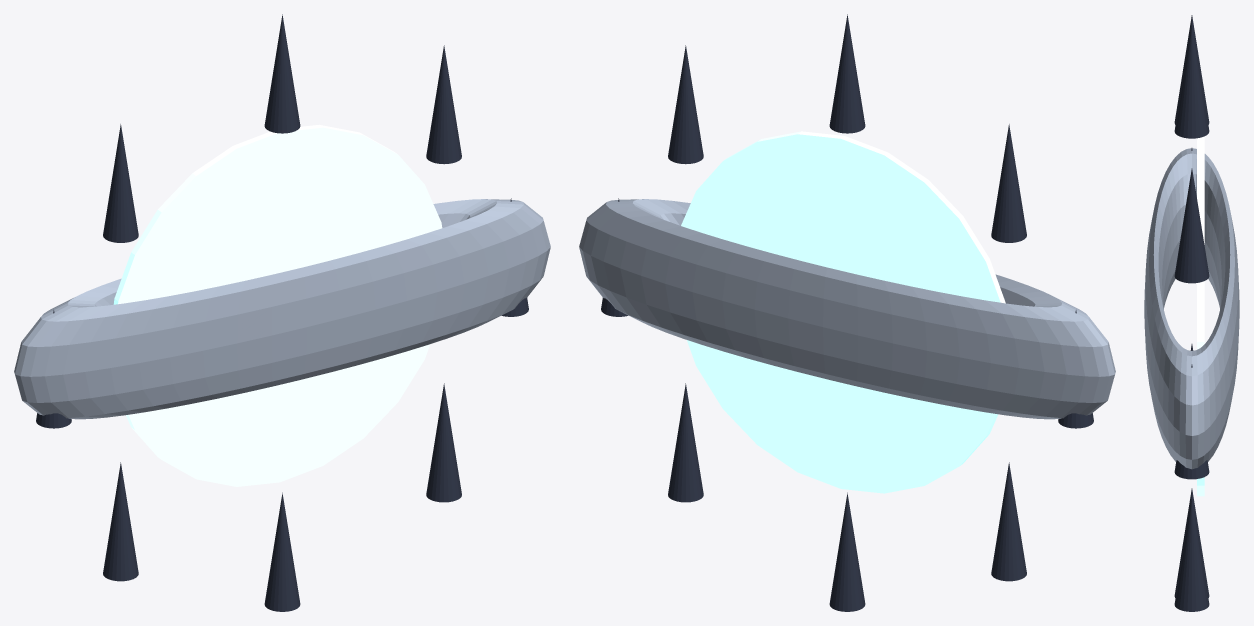
The model's file is prismatic-portal-lod0.glb.
3 views of the same model, side by side, from view 1: azimuth 30°, elevation 25°; view 2: azimuth 150°, elevation 25°; view 3: azimuth 270°, elevation 25° (orthographic). The views are drawn at different scales.
Visible parts, largest first — view 1: PortalRing, PortalCore, RuneSpire.2, RuneSpire.5, RuneSpire.7, RuneSpire.3, RuneSpire.1, RuneSpire.6; view 2: PortalRing, PortalCore, RuneSpire.2, RuneSpire.5, RuneSpire.7, RuneSpire.3, RuneSpire.1, RuneSpire.6; view 3: PortalRing, RuneSpire.1, RuneSpire.2, RuneSpire.7, PortalCore, RuneSpire.0, RuneSpire.6, RuneSpire.3.
Boxes of the visible parts, x1,y1,x2,y2 form: PortalRing: [14, 199, 550, 419]; PortalCore: [113, 124, 442, 486]; RuneSpire.2: [264, 14, 300, 133]; RuneSpire.5: [103, 462, 138, 581]; RuneSpire.7: [426, 383, 461, 502]; RuneSpire.3: [103, 124, 138, 242]; RuneSpire.1: [426, 45, 461, 164]; RuneSpire.6: [264, 492, 300, 611]; PortalRing: [579, 199, 1115, 419]; PortalCore: [681, 131, 1005, 493]; RuneSpire.2: [829, 14, 865, 133]; RuneSpire.5: [991, 462, 1026, 581]; RuneSpire.7: [668, 383, 703, 502]; RuneSpire.3: [991, 124, 1026, 242]; RuneSpire.1: [668, 45, 703, 164]; RuneSpire.6: [829, 492, 865, 611]; PortalRing: [1144, 148, 1239, 469]; RuneSpire.1: [1174, 168, 1209, 283]; RuneSpire.2: [1174, 24, 1209, 138]; RuneSpire.7: [1174, 497, 1209, 611]; PortalCore: [1197, 136, 1204, 496]; RuneSpire.0: [1174, 364, 1209, 479]; RuneSpire.6: [1174, 488, 1209, 597]; RuneSpire.3: [1174, 15, 1209, 124].
Size of the model in its own units: 5.5 by 5.8 by 0.875.
